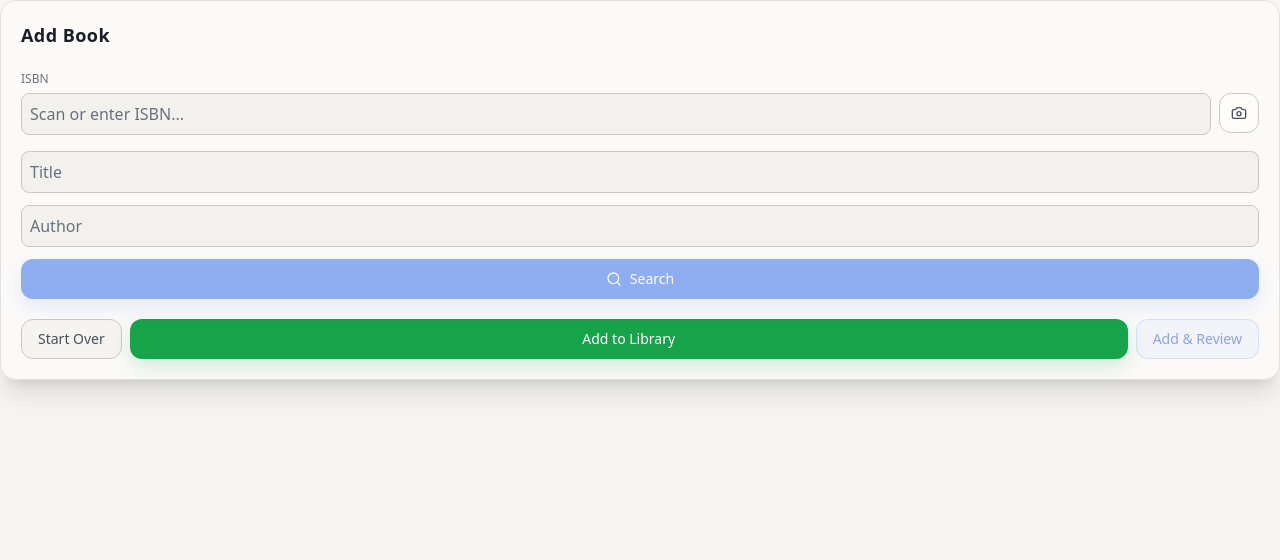
Test: selects an ISBN-less candidate into the existing draft
Type "The Book" into the field with placeholder "Title". click: [640, 172]
box: [21, 151, 1259, 193]
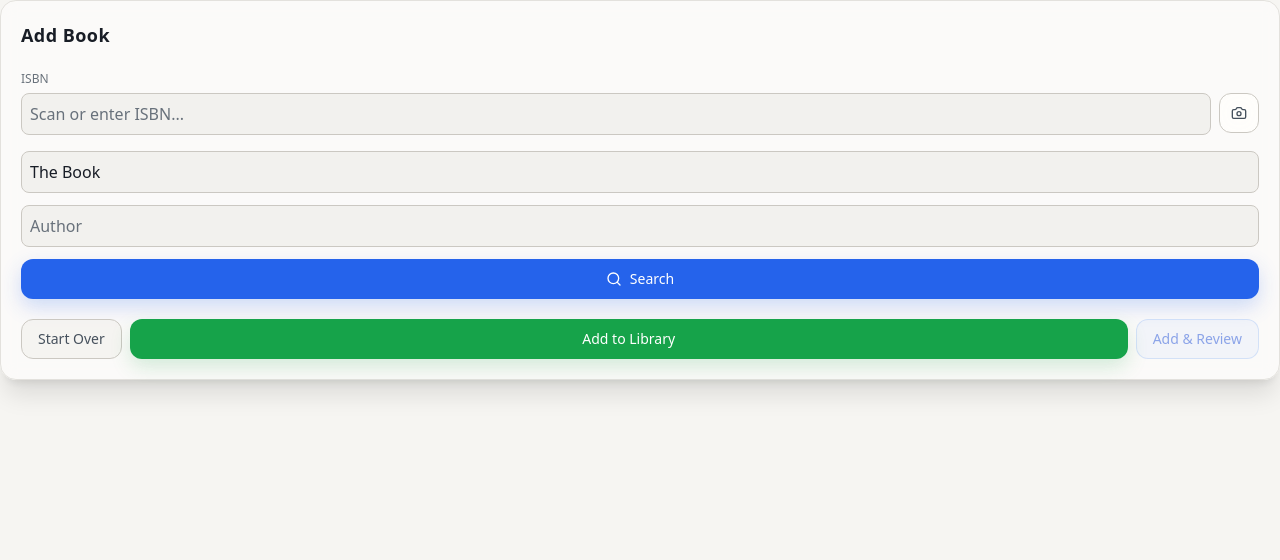
Click the button "Search". click: [640, 279]
box: [21, 259, 1259, 299]
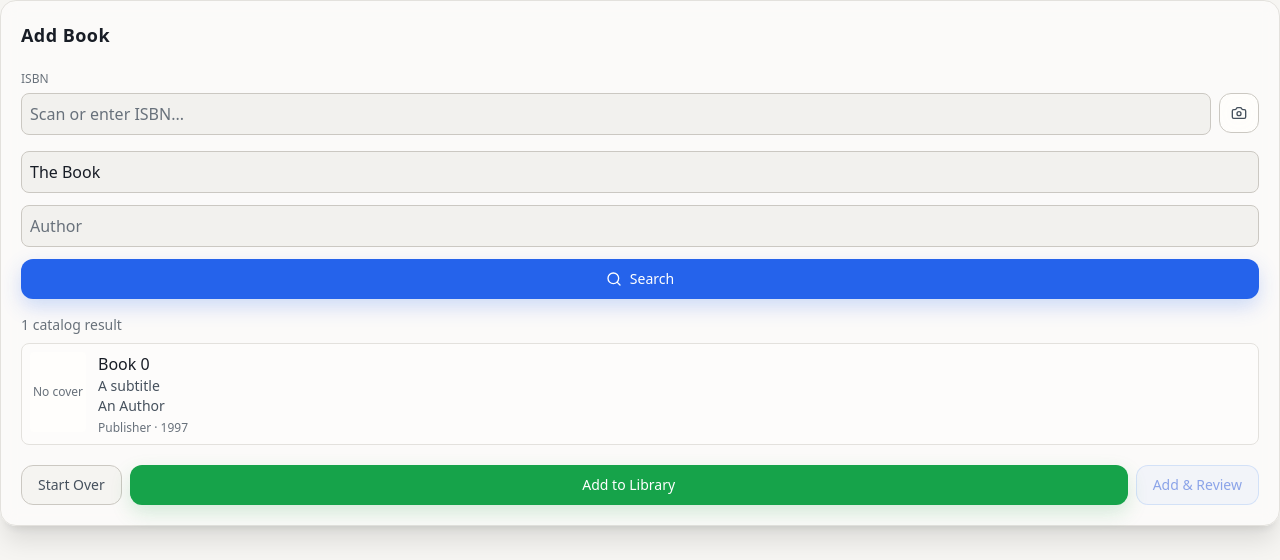
Check: the button "No cover Book 0 A subtitle An Author Publisher · 1997" is shown
Click the button "No cover Book 0 A subtitle An Author Publisher · 1997". click: [58, 392]
box: [21, 343, 1259, 445]
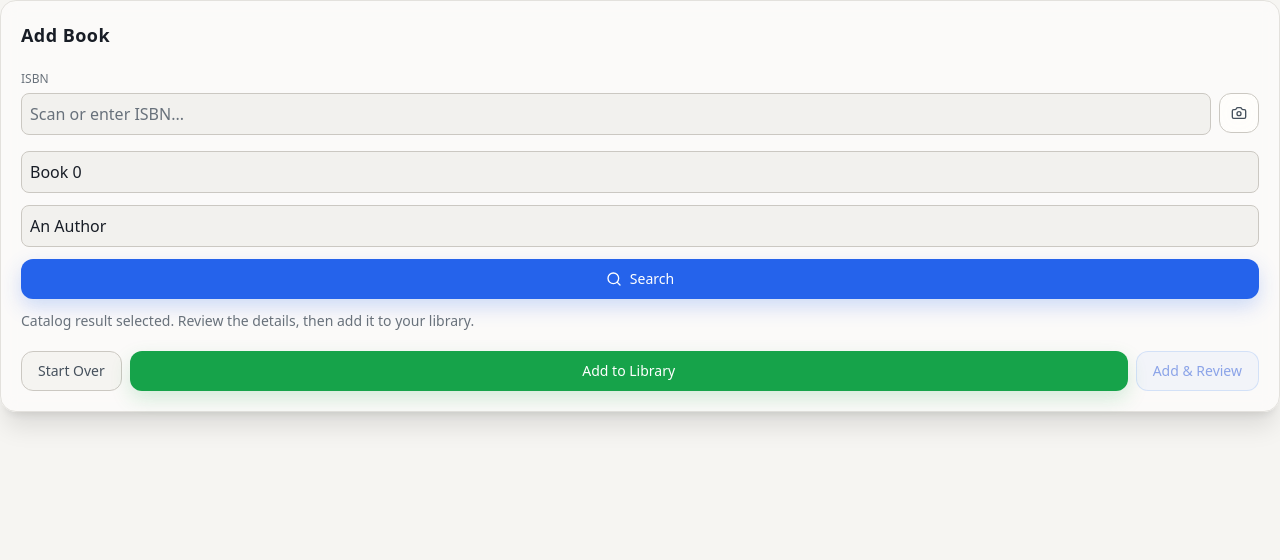
Check: the 1st field with placeholder "Title" holds "Book 0", box [21, 151, 1259, 193]
Check: the 2nd field with placeholder "Author" holds "An Author", box [21, 205, 1259, 247]
Check: the text "Catalog result selected" is shown, box [21, 311, 474, 330]
